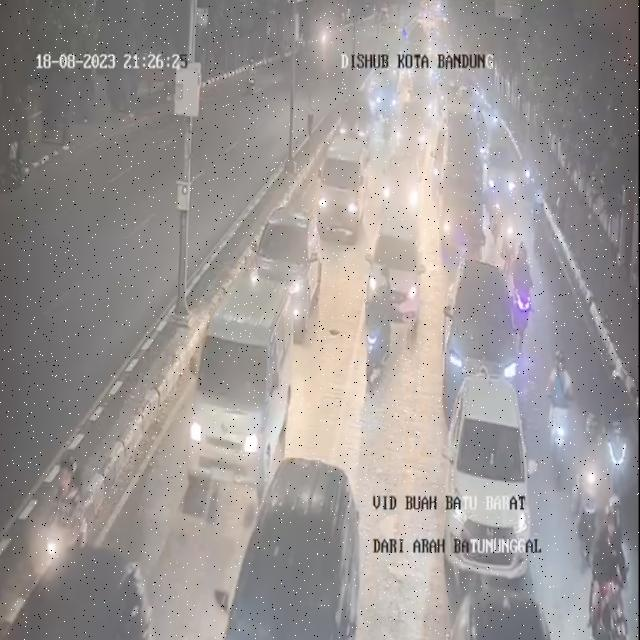cars: (210, 460, 363, 640), (190, 274, 296, 497), (446, 371, 530, 593), (3, 532, 158, 638), (442, 257, 522, 413), (260, 208, 320, 338), (371, 206, 426, 334), (323, 135, 372, 245), (456, 585, 550, 640), (439, 164, 482, 258), (387, 151, 422, 220), (341, 88, 374, 160), (397, 97, 429, 158)
motorcycle: (572, 408, 608, 554), (592, 496, 628, 638), (545, 347, 576, 482), (609, 357, 640, 476), (361, 273, 392, 391), (514, 240, 538, 353), (500, 177, 522, 260), (486, 177, 504, 238)
